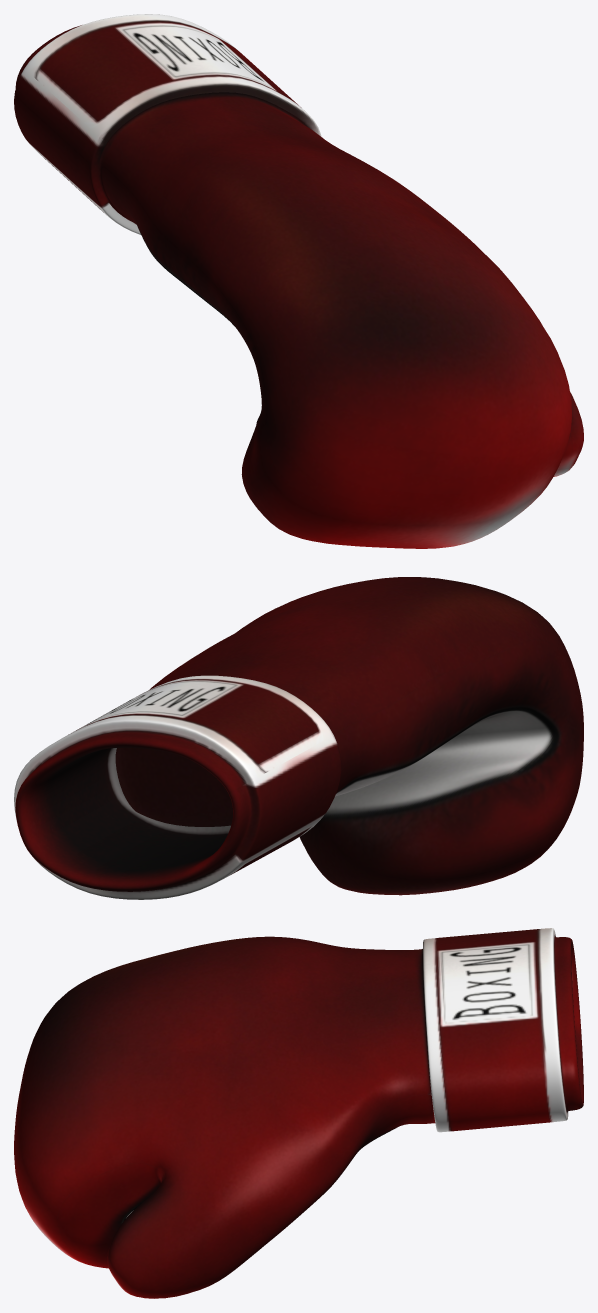
The model's file is luvaBox.glb.
3 views of the same model, one above another, from view 1: azimuth 30°, elevation 25°; view 2: azimuth 150°, elevation 25°; view 3: azimuth 270°, elevation 25° (orthographic). The views are drawn at different scales.
Visible parts, largest first — view 1: 10493_Leather_Boxing_Gloves_V1_L3; view 2: 10493_Leather_Boxing_Gloves_V1_L3; view 3: 10493_Leather_Boxing_Gloves_V1_L3.
Boxes of the visible parts, <box> form: 10493_Leather_Boxing_Gloves_V1_L3: <box>14,14,583,548</box>; 10493_Leather_Boxing_Gloves_V1_L3: <box>14,577,583,899</box>; 10493_Leather_Boxing_Gloves_V1_L3: <box>14,928,583,1298</box>.
Size of the model in its own units: 13.37 by 12.97 by 22.89.
Materials: 1 (1 with a texture image).
